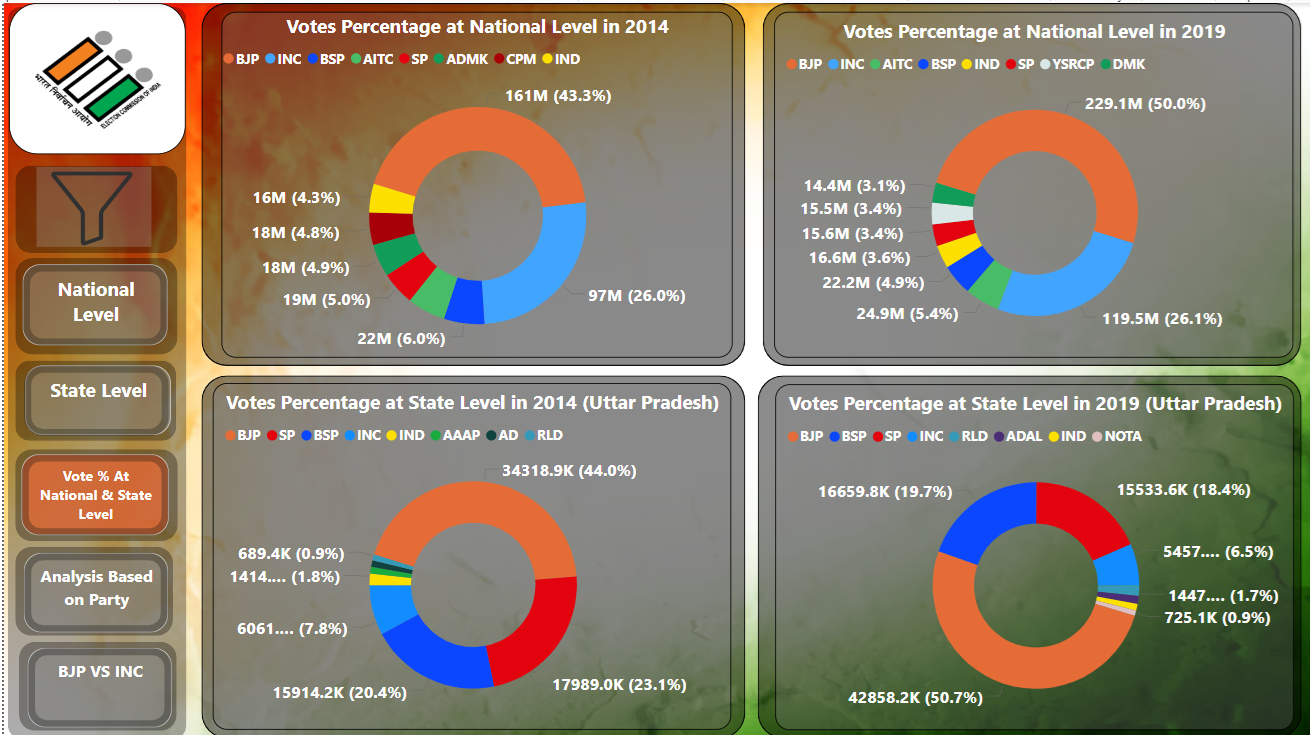

The page's visual inventory and layout, read from the dashboard file:
{"tool":"powerbi","page":{"name":"Vote % At National & State Level","canvas":[1280,720],"ordinal":5},"visuals":[{"type":"image","box":[0,0,1279.8,719.9],"z":0},{"type":"image","box":[41.2,160.8,91,82.1],"z":0,"group":"g1"},{"type":"shape","box":[10.7,250,158.8,94.6],"z":0,"group":"g4"},{"type":"shape","box":[10.7,349.8,157.6,78.7],"z":0,"group":"g5"},{"type":"shape","box":[11.4,436,159.1,90],"z":0,"group":"g6"},{"type":"shape","box":[11.4,532,154.3,87.1],"z":0,"group":"g2"},{"type":"shape","box":[14.3,624.3,154.3,87.1],"z":0,"group":"g3"},{"type":"shape","box":[3.6,3.6,174.9,715.7],"z":1000},{"type":"actionButton","title":"Slicer Open","box":[32.1,160.6,112.4,78.5],"z":1000,"group":"g1"},{"type":"textbox","box":[18,256.4,141.9,78.8],"z":1000,"group":"g4"},{"type":"textbox","box":[20,355.1,142.2,68],"z":1000,"group":"g5"},{"type":"textbox","box":[17.3,441.2,143.9,79.5],"z":1000,"group":"g6"},{"type":"textbox","box":[19.7,537.6,140.8,77.7],"z":1000,"group":"g2"},{"type":"textbox","box":[22.6,629.9,140.8,77.7],"z":1000,"group":"g3"},{"type":"shape","box":[10.7,159,158.8,85.7],"z":2000},{"type":"actionButton","box":[18,256.4,141.7,79.5],"z":2000,"group":"g4"},{"type":"actionButton","box":[19.7,355.1,141.7,69],"z":2000,"group":"g5"},{"type":"actionButton","box":[17.3,441.2,143.9,79.5],"z":2000,"group":"g6"},{"type":"actionButton","box":[19.7,537.6,140.8,77.7],"z":2000,"group":"g2"},{"type":"actionButton","box":[22.6,629.9,140.8,77.7],"z":2000,"group":"g3"},{"type":"shape","box":[742.5,0,526.5,355],"z":3000},{"type":"shape","box":[192.8,0,531.9,355],"z":4000},{"type":"group","id":"g1","title":"Slicer Group","box":[32.1,160.6,112.4,82.1],"z":5000},{"type":"group","id":"g2","title":"Based on Votes","box":[11.4,532,154.3,82.9],"z":5250},{"type":"group","id":"g3","title":"Based on Votes","box":[14.3,624.3,154.3,82.9],"z":5500},{"type":"group","id":"g4","title":"National Button","box":[10.7,250,158.8,94.6],"z":6000},{"type":"donutChart","title":"Votes Percentage at National Level in 2014","fields":{"Y":["Sum(constituency_wise_results_2014_cleaned.total_votes)"],"Category":["constituency_wise_results_2014_cleaned.party"]},"box":[212.4,8.9,499.7,338],"z":7000},{"type":"donutChart","title":"Votes Percentage at National Level in 2019","fields":{"Category":["constituency_wise_results_2019.party"],"Y":["Sum(constituency_wise_results_2019.total_votes)"]},"box":[753.5,8.7,507.7,338],"z":8000},{"type":"image","box":[5.4,0,173.1,148.1],"z":9000},{"type":"shape","box":[192.8,364.1,531.9,355.2],"z":10000},{"type":"shape","box":[737.1,364.1,531.9,355.2],"z":11000},{"type":"donutChart","fields":{"Category":["CombinedElectionData.Party"],"Y":["Sum(CombinedElectionData.Votes)"]},"box":[754.8,373.1,507.6,338.4],"z":12000},{"type":"donutChart","fields":{"Category":["CombinedElectionData.Party"],"Y":["Sum(CombinedElectionData.Votes)"]},"box":[204.6,372.2,507.1,339.6],"z":13000},{"type":"group","id":"g5","title":"State Level","box":[10.7,349.8,158.8,78.5],"z":14000},{"type":"group","id":"g6","title":"Vote % At National & State Level","box":[11.4,436,158.6,90],"z":15000}]}

Visuals, with their boxes in screenshot pixels (x1, y1, x2, y2), scaled from the page's 1280x720 canvas onto the 1310x735 screenshot:
image: {"left": 0, "top": 0, "right": 1309, "bottom": 734}
image: {"left": 42, "top": 164, "right": 135, "bottom": 248}
shape: {"left": 11, "top": 255, "right": 173, "bottom": 352}
shape: {"left": 11, "top": 357, "right": 172, "bottom": 437}
shape: {"left": 12, "top": 445, "right": 174, "bottom": 537}
shape: {"left": 12, "top": 543, "right": 170, "bottom": 632}
shape: {"left": 15, "top": 637, "right": 173, "bottom": 726}
shape: {"left": 4, "top": 4, "right": 183, "bottom": 734}
"Slicer Open" actionButton: {"left": 33, "top": 164, "right": 148, "bottom": 244}
textbox: {"left": 18, "top": 262, "right": 164, "bottom": 342}
textbox: {"left": 20, "top": 362, "right": 166, "bottom": 432}
textbox: {"left": 18, "top": 450, "right": 165, "bottom": 532}
textbox: {"left": 20, "top": 549, "right": 164, "bottom": 628}
textbox: {"left": 23, "top": 643, "right": 167, "bottom": 722}
shape: {"left": 11, "top": 162, "right": 173, "bottom": 250}
actionButton: {"left": 18, "top": 262, "right": 163, "bottom": 343}
actionButton: {"left": 20, "top": 362, "right": 165, "bottom": 433}
actionButton: {"left": 18, "top": 450, "right": 165, "bottom": 532}
actionButton: {"left": 20, "top": 549, "right": 164, "bottom": 628}
actionButton: {"left": 23, "top": 643, "right": 167, "bottom": 722}
shape: {"left": 760, "top": 0, "right": 1299, "bottom": 362}
shape: {"left": 197, "top": 0, "right": 742, "bottom": 362}
"Slicer Group" group: {"left": 33, "top": 164, "right": 148, "bottom": 248}
"Based on Votes" group: {"left": 12, "top": 543, "right": 170, "bottom": 628}
"Based on Votes" group: {"left": 15, "top": 637, "right": 173, "bottom": 722}
"National Button" group: {"left": 11, "top": 255, "right": 173, "bottom": 352}
"Votes Percentage at National Level in 2014" donutChart: {"left": 217, "top": 9, "right": 729, "bottom": 354}
"Votes Percentage at National Level in 2019" donutChart: {"left": 771, "top": 9, "right": 1291, "bottom": 354}
image: {"left": 6, "top": 0, "right": 183, "bottom": 151}
shape: {"left": 197, "top": 372, "right": 742, "bottom": 734}
shape: {"left": 754, "top": 372, "right": 1299, "bottom": 734}
donutChart - CombinedElectionData.Party x Sum(CombinedElectionData.Votes): {"left": 772, "top": 381, "right": 1292, "bottom": 726}
donutChart - CombinedElectionData.Party x Sum(CombinedElectionData.Votes): {"left": 209, "top": 380, "right": 728, "bottom": 727}
"State Level" group: {"left": 11, "top": 357, "right": 173, "bottom": 437}
"Vote % At National & State Level" group: {"left": 12, "top": 445, "right": 174, "bottom": 537}
